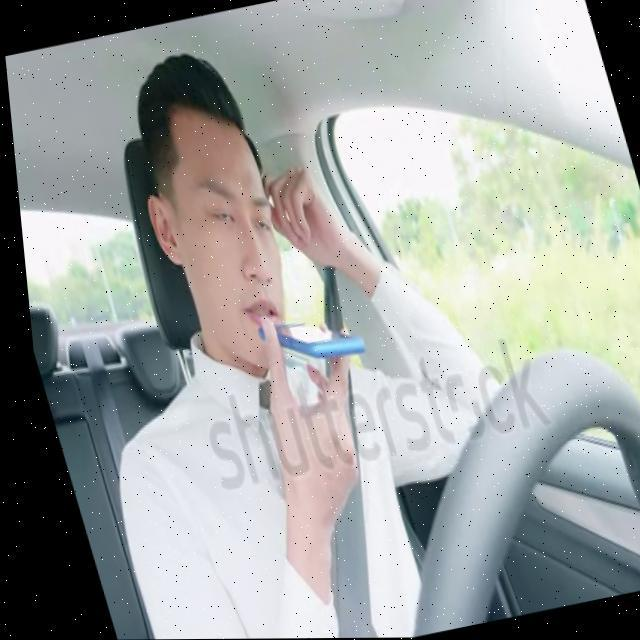PhoneCall: (244, 302, 369, 379)
